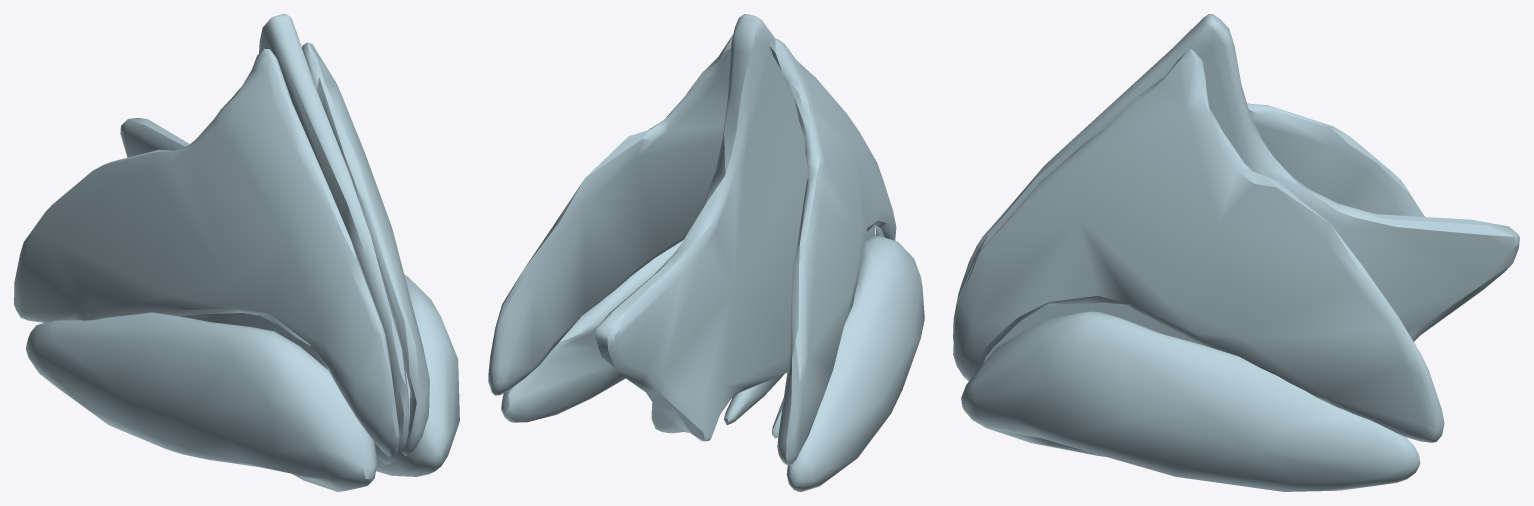
File: respiratory.head.glb
The picture shows the model from 3 angles, left to right: view 1: azimuth 30°, elevation 25°; view 2: azimuth 150°, elevation 25°; view 3: azimuth 270°, elevation 25°; orthographic projection. The views are drawn at different scales.
Parts seen in each view (by area): view 1: right_lateral_nasal_cartilage, right_major_alar_cartilage, septal_nasal_cartilage, left_lateral_nasal_cartilage, left_major_alar_cartilage; view 2: septal_nasal_cartilage, left_lateral_nasal_cartilage, right_lateral_nasal_cartilage, right_major_alar_cartilage, left_major_alar_cartilage; view 3: left_lateral_nasal_cartilage, left_major_alar_cartilage, septal_nasal_cartilage, right_lateral_nasal_cartilage.
Part boxes in pixels (x1,y1,x2,y2): right_lateral_nasal_cartilage: [14, 48, 399, 456]; right_major_alar_cartilage: [26, 312, 377, 491]; septal_nasal_cartilage: [120, 14, 409, 464]; left_lateral_nasal_cartilage: [302, 42, 429, 455]; left_major_alar_cartilage: [376, 274, 459, 476]; septal_nasal_cartilage: [595, 14, 875, 441]; left_lateral_nasal_cartilage: [488, 34, 733, 395]; right_lateral_nasal_cartilage: [770, 38, 896, 464]; right_major_alar_cartilage: [772, 235, 924, 491]; left_major_alar_cartilage: [501, 240, 784, 425]; left_lateral_nasal_cartilage: [953, 49, 1444, 442]; left_major_alar_cartilage: [961, 311, 1420, 491]; septal_nasal_cartilage: [954, 14, 1519, 363]; right_lateral_nasal_cartilage: [953, 103, 1424, 341].
Bounding box in the file's own units: 0.029 × 0.037 × 0.0434.
